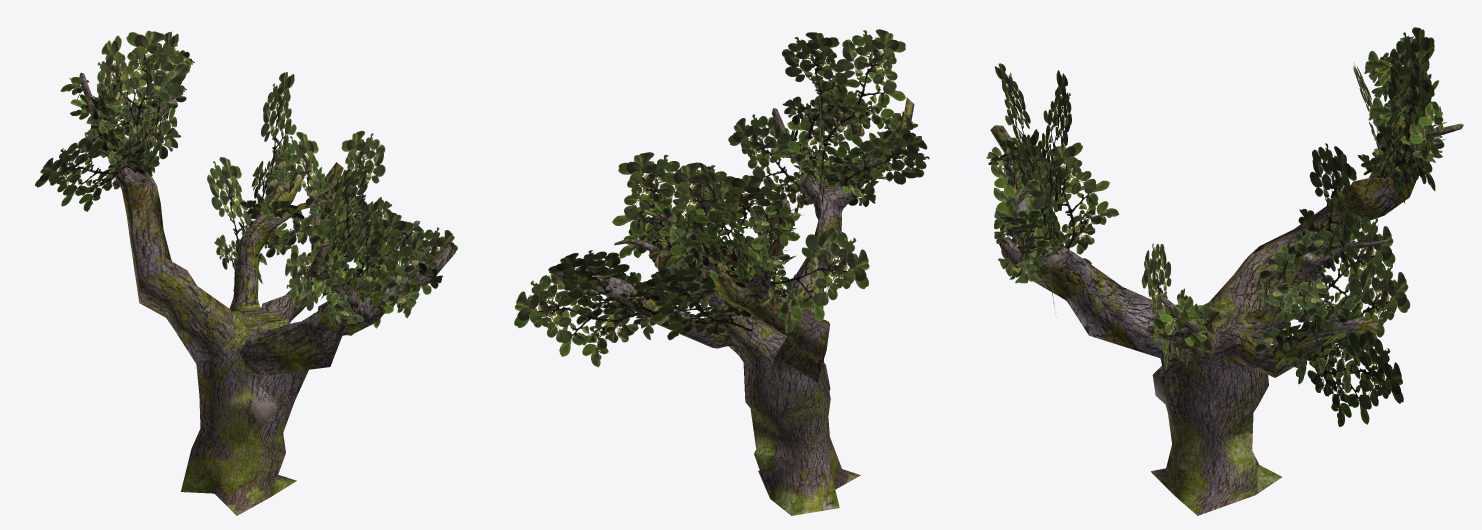
The model's file is tree5LOD.FBX.
The picture shows the model from 3 angles, left to right: view 1: azimuth 30°, elevation 25°; view 2: azimuth 150°, elevation 25°; view 3: azimuth 270°, elevation 25°; orthographic projection. The views are drawn at different scales.
Visible parts, largest first — view 1: Plane2175, tree5uv; view 2: Plane2175, tree5uv; view 3: Plane2175, tree5uv.
Part boxes in pixels (x1,y1,x2,y2): Plane2175: (35,30,457,328); tree5uv: (79,50,454,515); Plane2175: (514,29,929,367); tree5uv: (553,98,914,515); Plane2175: (986,27,1446,426); tree5uv: (990,35,1463,515).
Bounding box in the file's own units: 1032 × 1083 × 1089.
